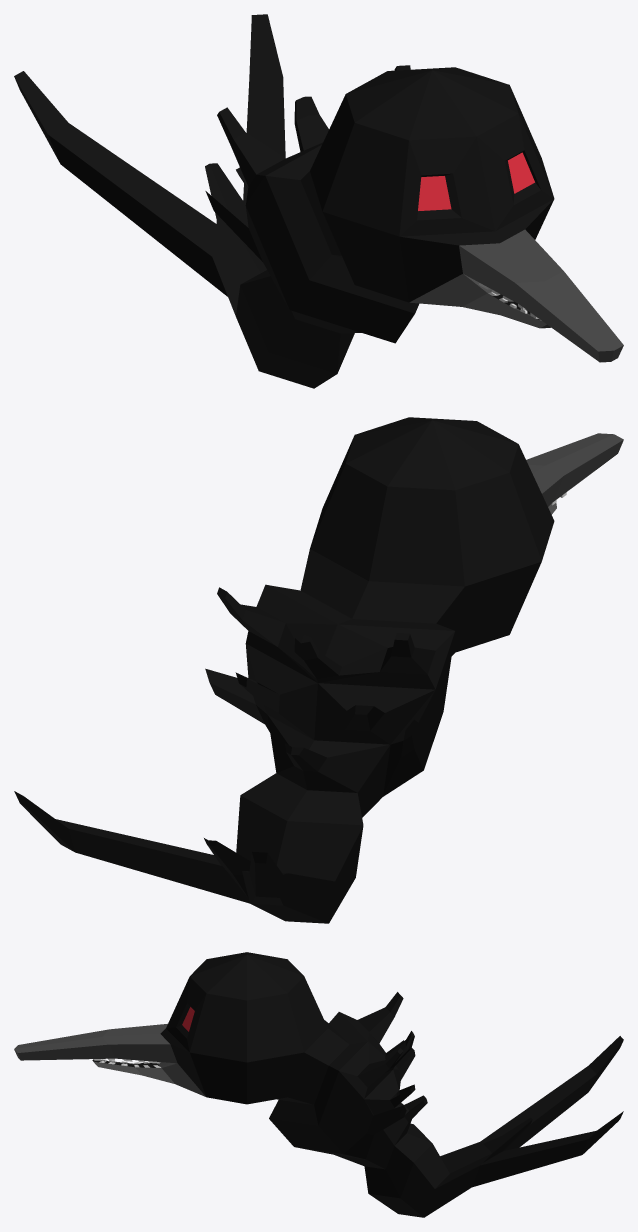
File: Tronco.fbx
3 views of the same model, one above another, from view 1: azimuth 30°, elevation 25°; view 2: azimuth 150°, elevation 25°; view 3: azimuth 270°, elevation 25° (orthographic). The views are drawn at different scales.
Parts seen in each view (by area): view 1: Sphere; view 2: Sphere; view 3: Sphere.
Boxes of the visible parts, box(x1,y1,x2,y2) form: Sphere: box(14, 14, 623, 388); Sphere: box(14, 417, 623, 923); Sphere: box(14, 952, 623, 1217).
Bounding box in the file's own units: 144 × 219 × 467.
